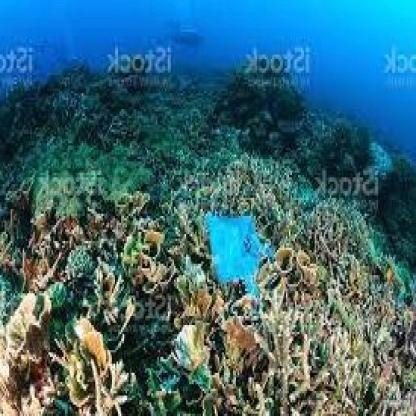pbag: (195, 202, 274, 296)
